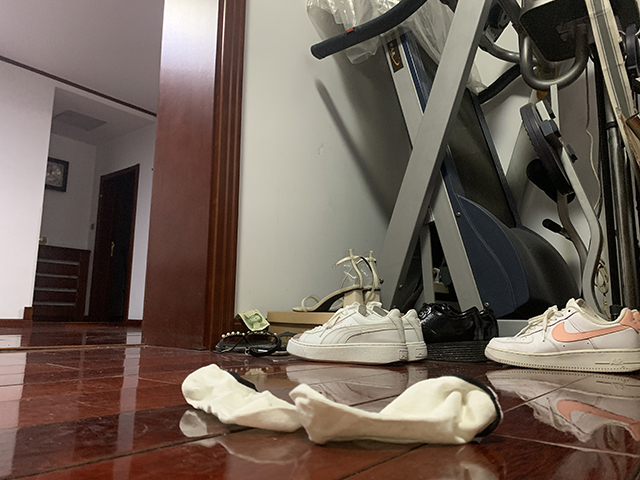socks: (288, 373, 508, 440), (181, 360, 303, 437)
